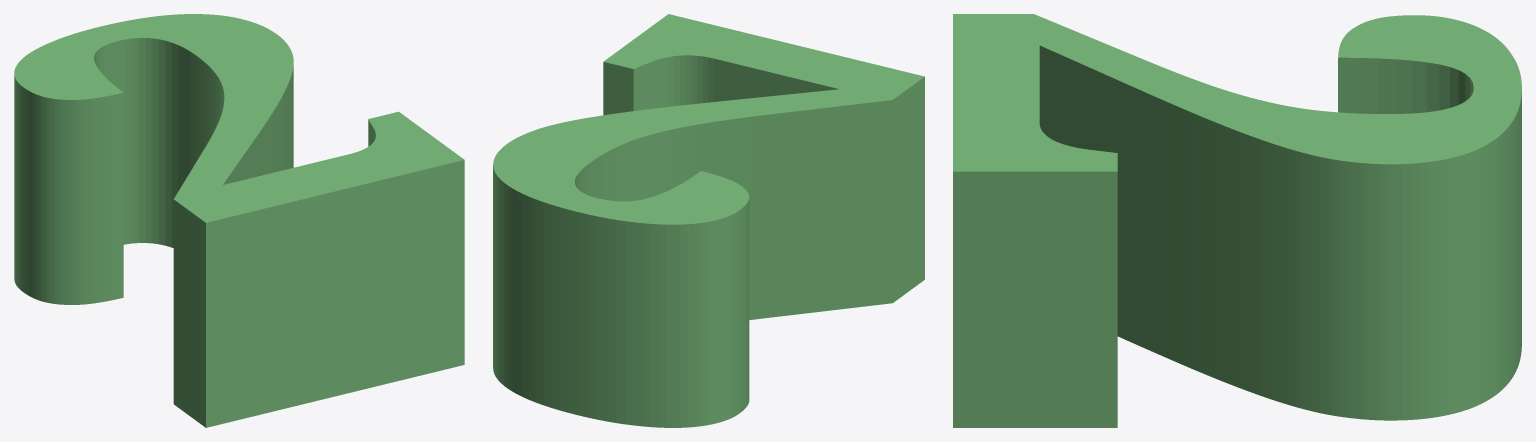
3 views of the same model, side by side, from view 1: azimuth 30°, elevation 25°; view 2: azimuth 150°, elevation 25°; view 3: azimuth 270°, elevation 25° (orthographic). The views are drawn at different scales.
Parts seen in each view (by area): view 1: Mesh_Mesh_head_geo.001_lambert2SG.001; view 2: Mesh_Mesh_head_geo.001_lambert2SG.001; view 3: Mesh_Mesh_head_geo.001_lambert2SG.001.
Part boxes in pixels (<box>): Mesh_Mesh_head_geo.001_lambert2SG.001: <box>14,14,464,427</box>; Mesh_Mesh_head_geo.001_lambert2SG.001: <box>493,14,924,427</box>; Mesh_Mesh_head_geo.001_lambert2SG.001: <box>953,14,1521,427</box>.
Size of the model in its own units: 13.2 by 10 by 20.12.
